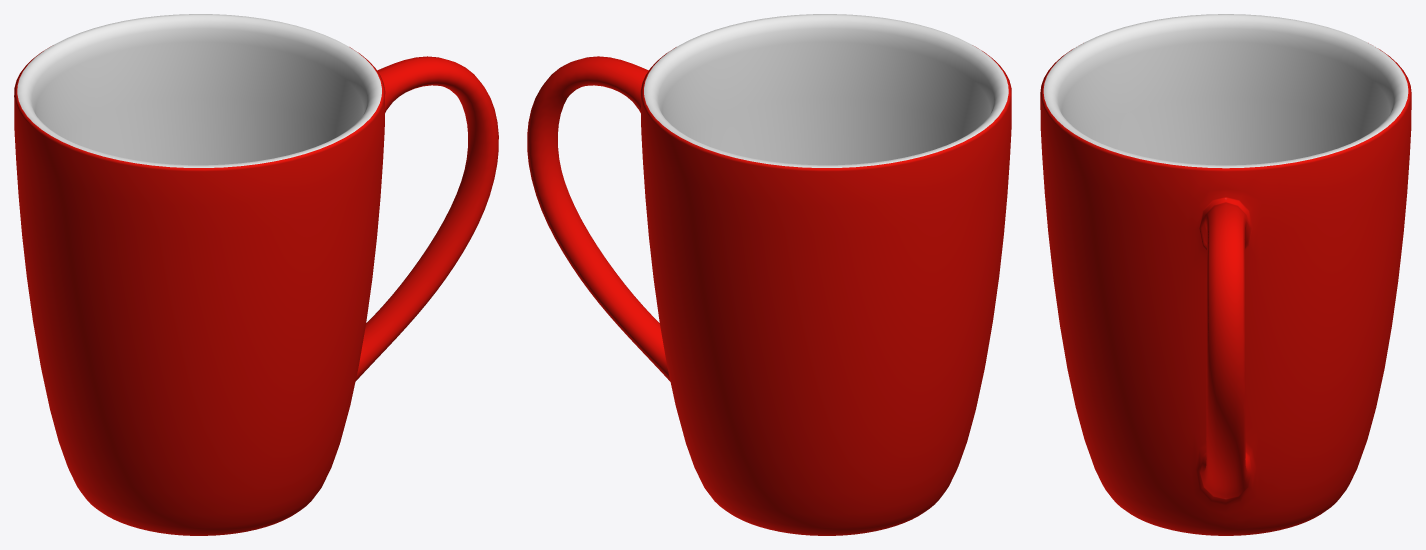
The model's file is cup.fbx.
The picture shows the model from 3 angles, left to right: view 1: azimuth 30°, elevation 25°; view 2: azimuth 150°, elevation 25°; view 3: azimuth 270°, elevation 25°; orthographic projection.
Visible parts, largest first — view 1: Coffee Mug.001_Mug White_0; view 2: Coffee Mug.001_Mug White_0; view 3: Coffee Mug.001_Mug White_0.
Part boxes in pixels (x1,y1,x2,y2): Coffee Mug.001_Mug White_0: [14, 14, 498, 535]; Coffee Mug.001_Mug White_0: [527, 14, 1011, 535]; Coffee Mug.001_Mug White_0: [1040, 14, 1411, 535].
Size of the model in its own units: 12.86 by 10.7 by 9.06.
1 material, 1 textured.
